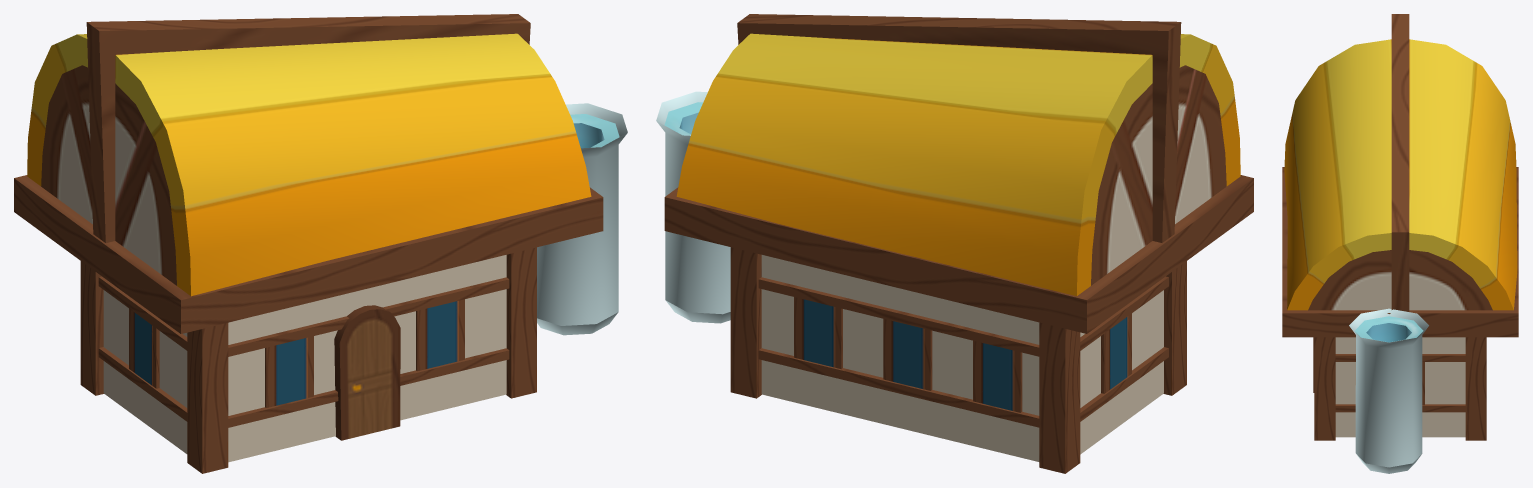
The model's file is building_potion_lv2.FBX.
The picture shows the model from 3 angles, left to right: view 1: azimuth 30°, elevation 25°; view 2: azimuth 150°, elevation 25°; view 3: azimuth 270°, elevation 25°; orthographic projection. The views are drawn at different scales.
Visible parts, largest first — view 1: building_potion_roof_lv2, building_potion_lv2, building_potion_bottleout_lv2, building_potion_bottle_lv2; view 2: building_potion_roof_lv2, building_potion_lv2, building_potion_bottleout_lv2, building_potion_bottle_lv2; view 3: building_potion_roof_lv2, building_potion_lv2, building_potion_bottleout_lv2, building_potion_bottle_lv2.
Part boxes in pixels (x1,y1,x2,y2): building_potion_roof_lv2: (27,33,591,462); building_potion_lv2: (14,14,603,473); building_potion_bottleout_lv2: (537,103,627,335); building_potion_bottle_lv2: (570,114,619,148); building_potion_roof_lv2: (676,33,1240,461); building_potion_lv2: (664,14,1253,473); building_potion_bottleout_lv2: (656,91,730,323); building_potion_bottle_lv2: (664,102,703,135); building_potion_roof_lv2: (1284,39,1517,437); building_potion_lv2: (1282,14,1518,440); building_potion_bottleout_lv2: (1349,308,1428,473); building_potion_bottle_lv2: (1355,316,1423,342).
Size of the model in its own units: 483 by 367 by 268.
